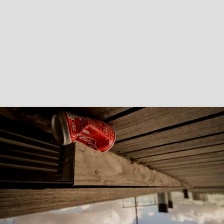can: (44, 105, 120, 157)
